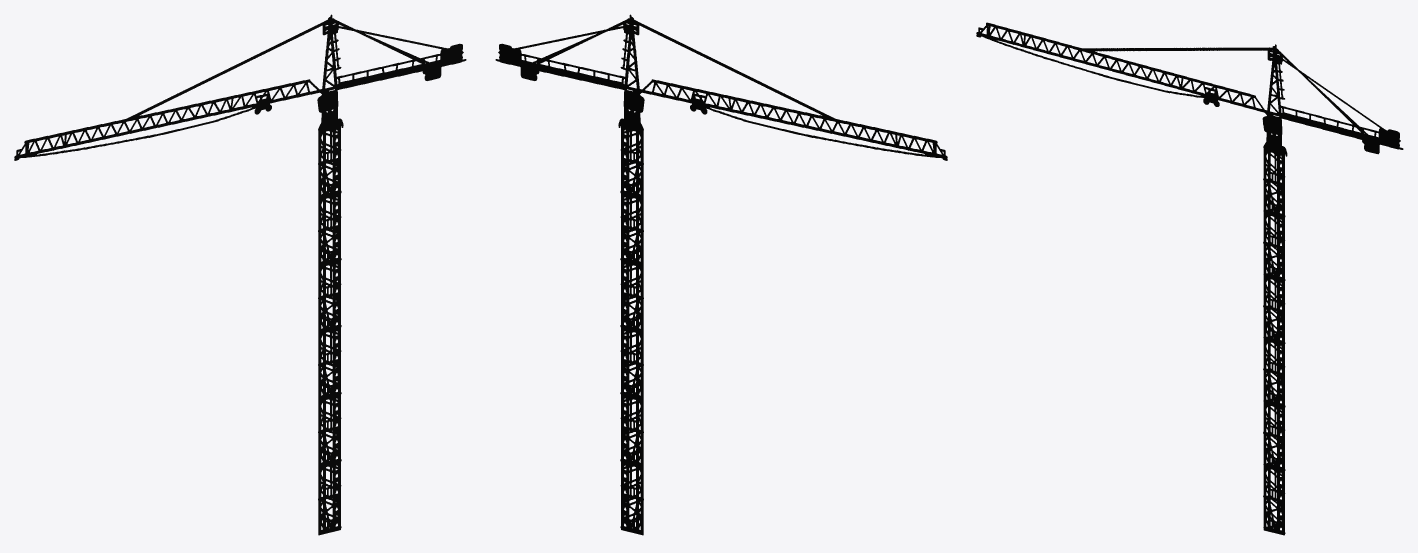
Rendered from SM_Env_Background_Crane_02.fbx.
3 views of the same model, side by side, from view 1: azimuth 30°, elevation 25°; view 2: azimuth 150°, elevation 25°; view 3: azimuth 330°, elevation 25° (orthographic). The views are drawn at different scales.
Parts seen in each view (by area): view 1: SM_Env_Background_Crane_02; view 2: SM_Env_Background_Crane_02; view 3: SM_Env_Background_Crane_02.
Part boxes in pixels (<box>): SM_Env_Background_Crane_02: <box>14,14,466,535</box>; SM_Env_Background_Crane_02: <box>495,14,947,535</box>; SM_Env_Background_Crane_02: <box>976,22,1403,535</box>.
Size of the model in its own units: 7411 by 8106 by 0.
